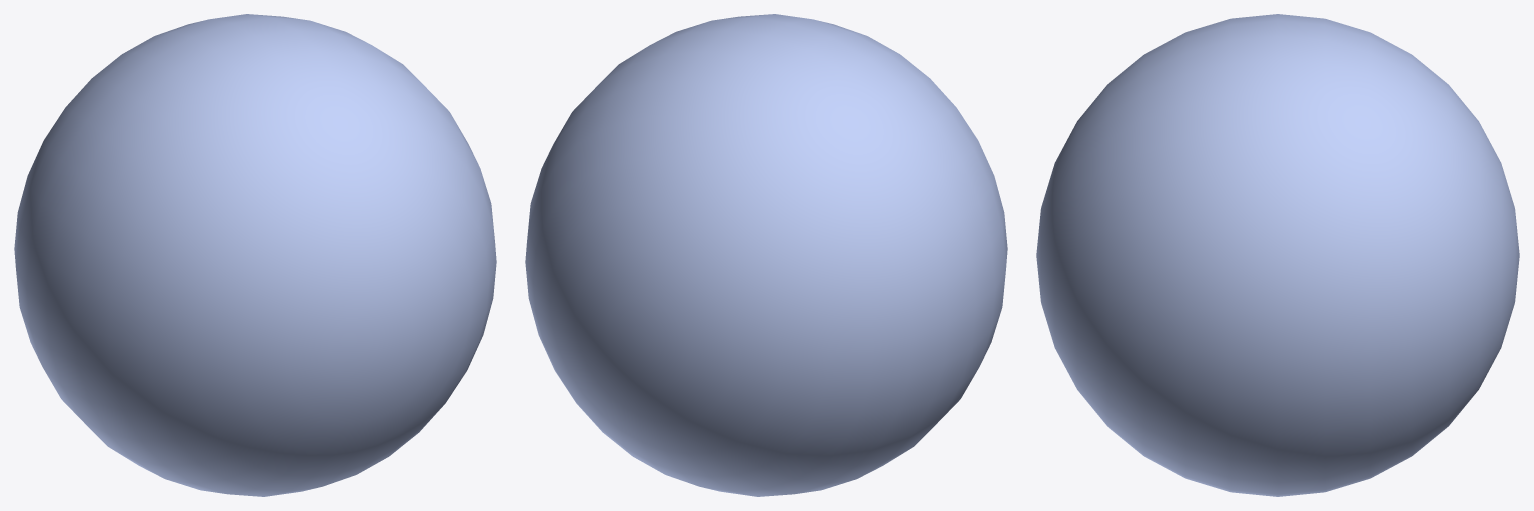
The model's file is bloop.fbx.
3 renders of one model, left to right at view 1: azimuth 30°, elevation 25°; view 2: azimuth 150°, elevation 25°; view 3: azimuth 270°, elevation 25°, orthographic.
Visible parts, largest first — view 1: Sphere001; view 2: Sphere001; view 3: Sphere001.
Part boxes in pixels (<box>): Sphere001: <box>14,14,496,496</box>; Sphere001: <box>525,14,1007,496</box>; Sphere001: <box>1036,14,1519,496</box>.
Size of the model in its own units: 573 by 573 by 573.
4 materials, 4 textured.
